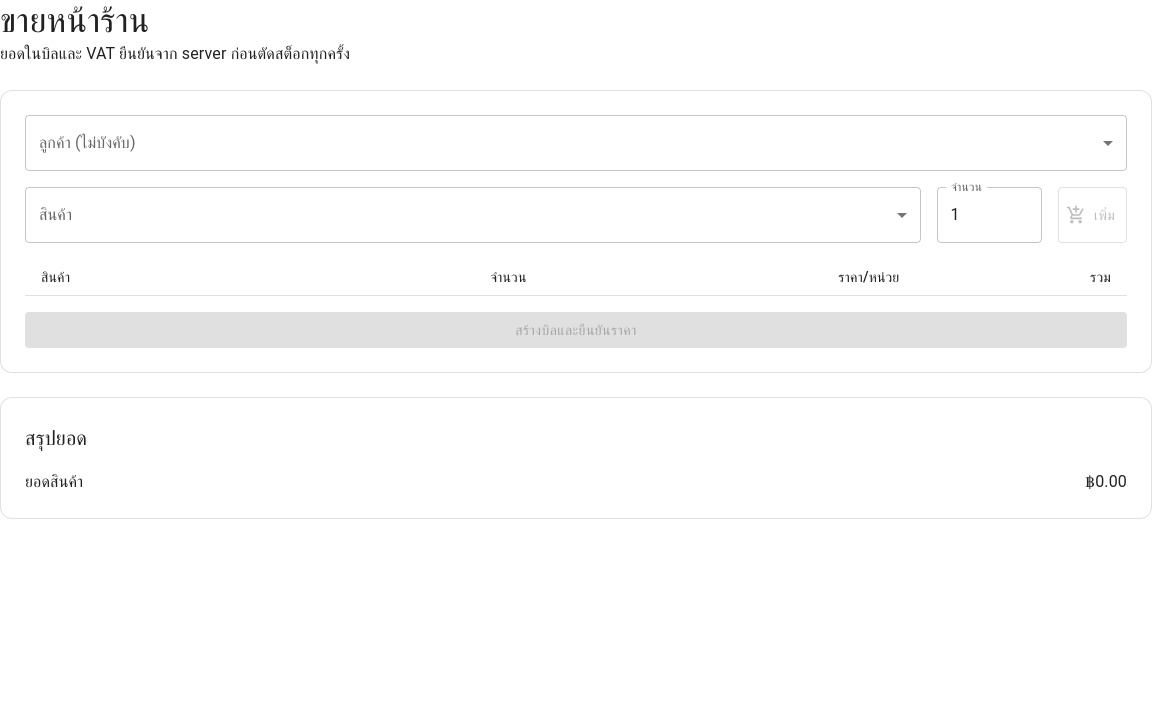
Test: POS cash flow › สร้างบิล ชำระเงินสดแบบ idempotent และแสดงใบเสร็จ
Click the 2nd dropdown named "สินค้า": (473, 215) [25, 187, 921, 243]
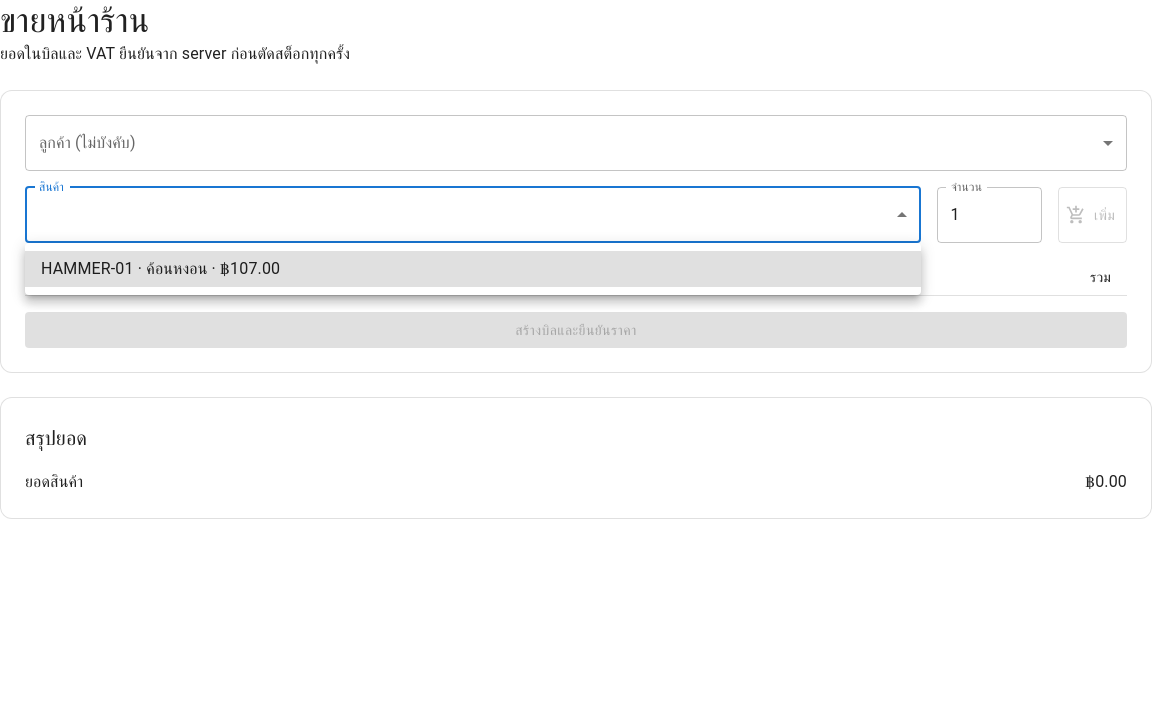
Click the option "HAMMER-01 · ค้อนหงอน · ฿107.00": (87, 268) [25, 251, 921, 287]
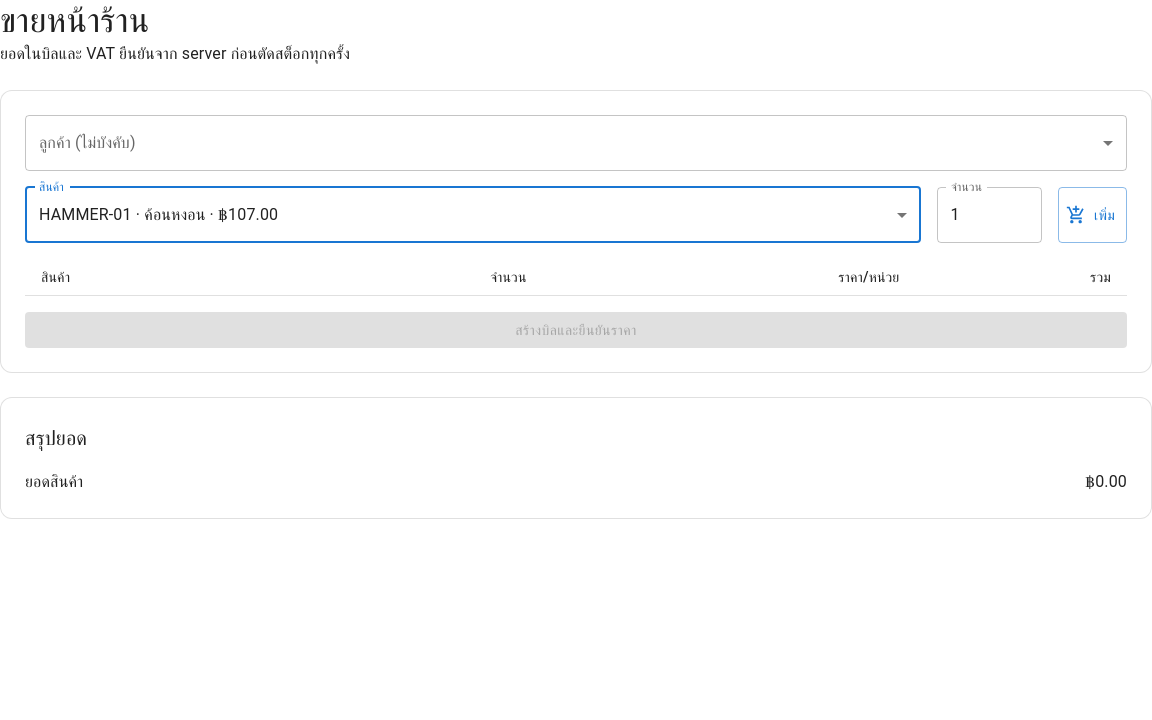
Click the button "เพิ่ม": (1093, 215) [1058, 187, 1127, 243]
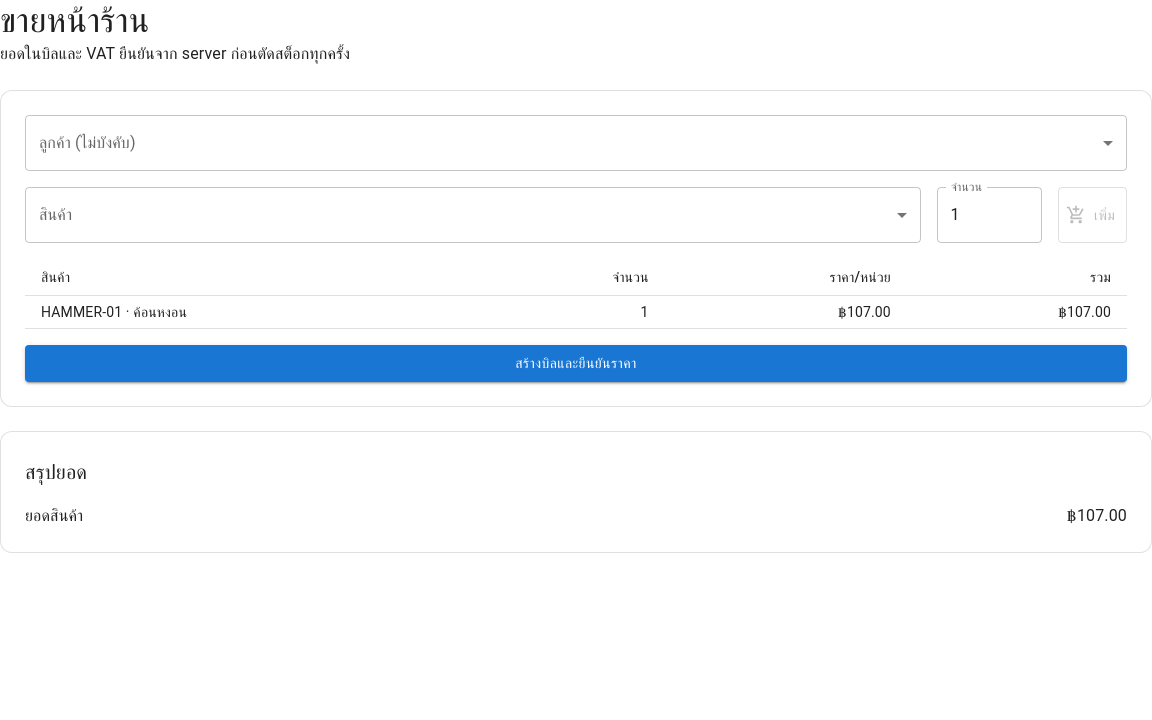
Click the button "สร้างบิลและยืนยันราคา": (576, 363) [25, 345, 1127, 382]
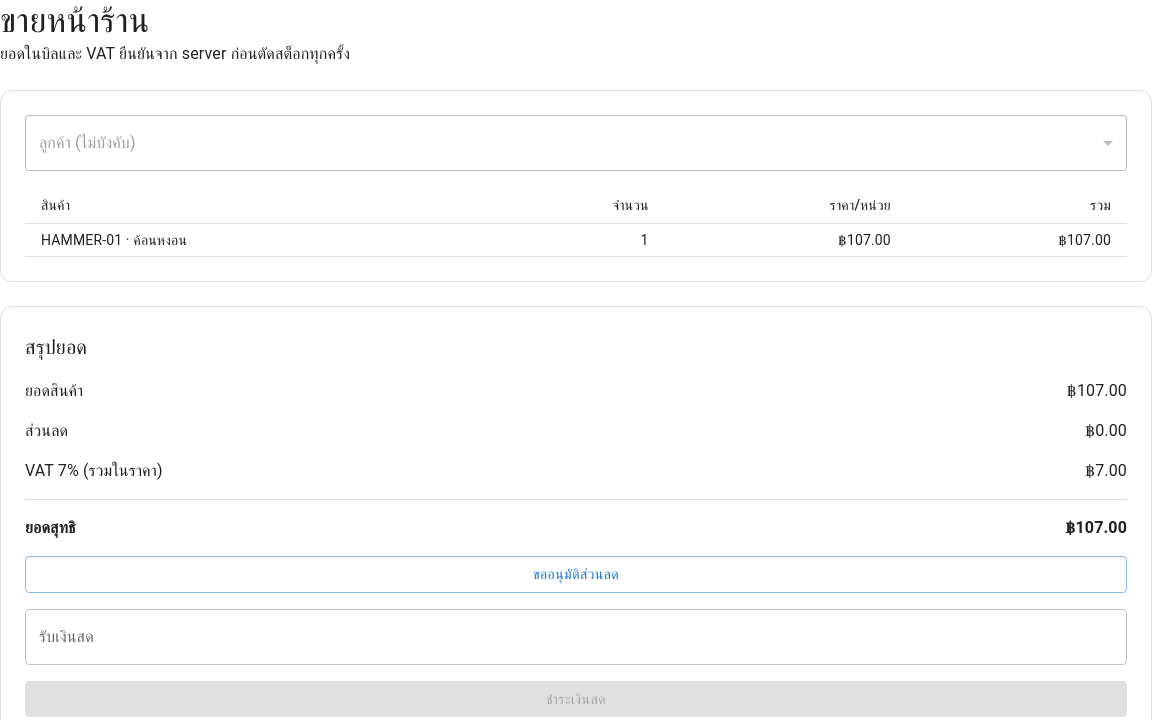
Expected: the text "VAT 7% (รวมในราคา)" is shown, [25, 459, 163, 483]
In the number field labelled "รับเงินสด": (576, 636) [25, 608, 1127, 664], type "120"
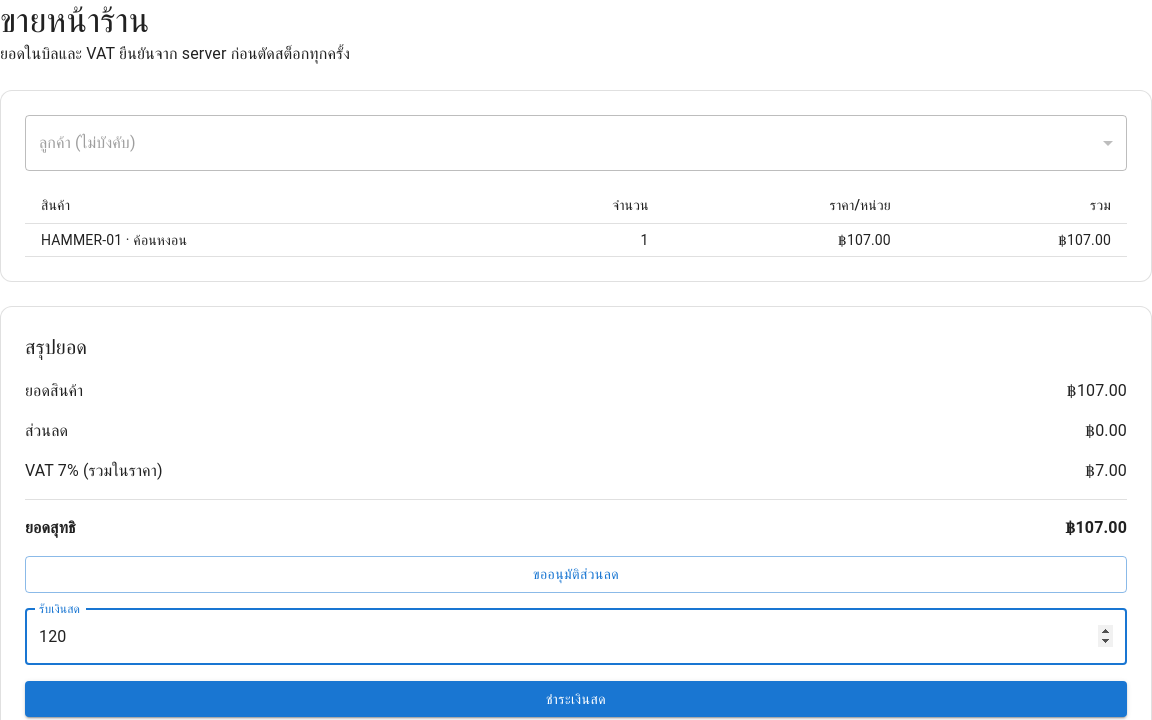
Click the button "ชำระเงินสด": (576, 699) [25, 680, 1127, 717]
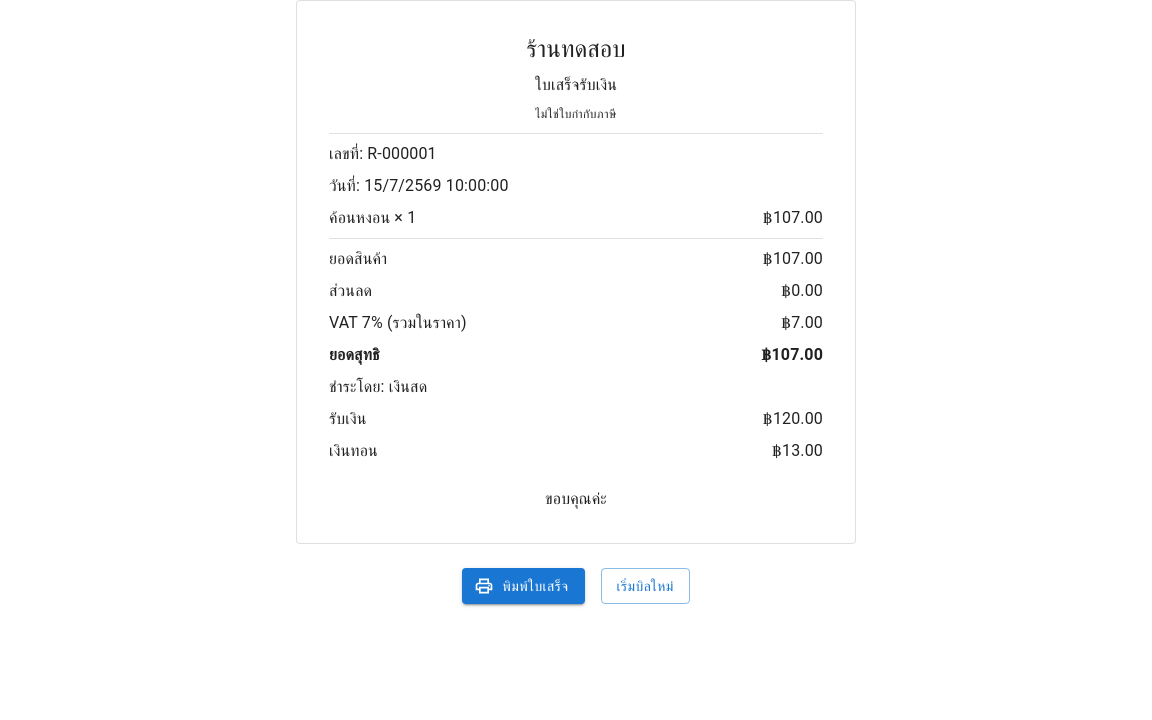
Expected: the text "ไม่ใช่ใบกำกับภาษี" is shown, [535, 107, 617, 121]
Expected: the text "ขอบคุณค่ะ" is shown, [545, 489, 607, 508]
